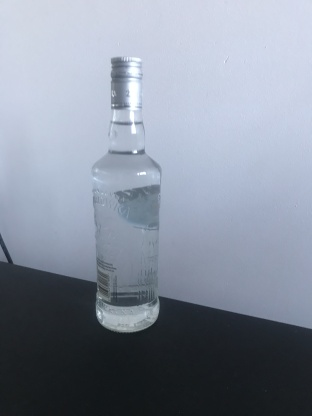nakretka: (109, 54, 144, 109)
